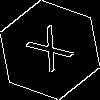X: (25, 25, 82, 81)
